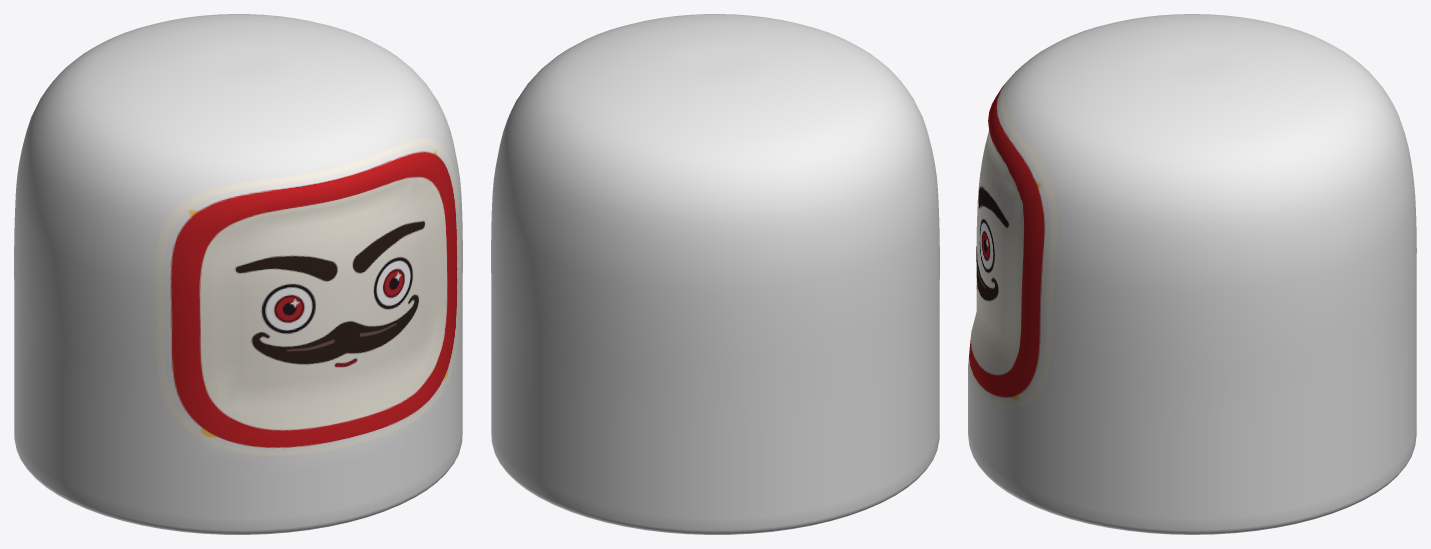
File: daruking.fbx
3 views of the same model, side by side, from view 1: azimuth 30°, elevation 25°; view 2: azimuth 150°, elevation 25°; view 3: azimuth 270°, elevation 25° (orthographic).
Visible parts, largest first — view 1: daruking; view 2: daruking; view 3: daruking.
Boxes of the visible parts, bbox=[...] form: daruking: bbox=[14, 14, 462, 534]; daruking: bbox=[491, 14, 939, 534]; daruking: bbox=[968, 14, 1416, 534].
Size of the model in its own units: 1 by 0.9425 by 1.
1 material, 1 textured.
